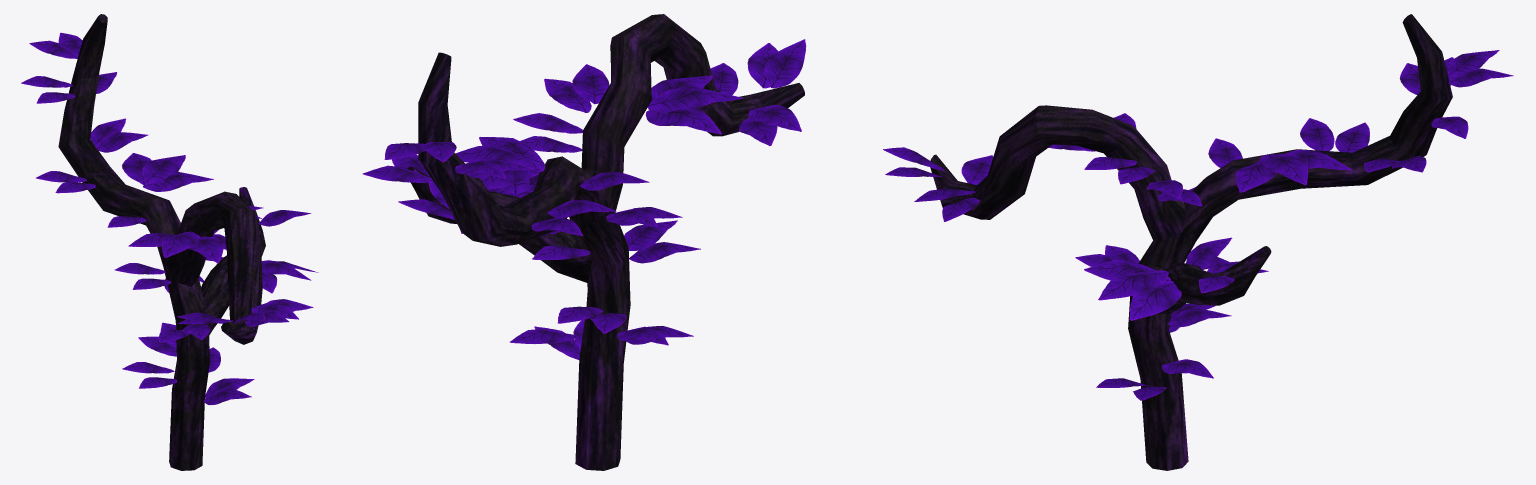
Rendered from bush.FBX.
3 renders of one model, left to right at view 1: azimuth 30°, elevation 25°; view 2: azimuth 150°, elevation 25°; view 3: azimuth 270°, elevation 25°, orthographic. The views are drawn at different scales.
Visible parts, largest first — view 1: Cylinder001, Plane004, Plane026, Plane029, Plane014, Plane013, Plane017, Plane042, Plane023, Plane008, Plane024, Plane020 (+11 smaller); view 2: Cylinder001, Plane026, Plane004, Plane010, Plane032, Plane033, Plane007, Plane037, Plane030, Plane036, Plane011, Plane043 (+15 smaller); view 3: Cylinder001, Plane029, Plane004, Plane028, Plane040, Plane017, Plane027, Plane043.
Part boxes in pixels (bbox=[...]): Cylinder001: bbox=[58, 14, 265, 470]; Plane004: bbox=[122, 153, 213, 191]; Plane026: bbox=[128, 231, 223, 263]; Plane029: bbox=[261, 260, 318, 293]; Plane014: bbox=[97, 132, 148, 152]; Plane013: bbox=[90, 118, 125, 147]; Plane017: bbox=[29, 40, 78, 58]; Plane042: bbox=[258, 210, 311, 226]; Plane023: bbox=[203, 388, 251, 405]; Plane008: bbox=[251, 302, 298, 319]; Plane024: bbox=[205, 378, 254, 398]; Plane020: bbox=[138, 336, 176, 356]; Cylinder001: bbox=[407, 14, 804, 470]; Plane026: bbox=[645, 75, 743, 134]; Plane004: bbox=[455, 137, 545, 189]; Plane010: bbox=[764, 39, 806, 88]; Plane032: bbox=[572, 64, 609, 104]; Plane033: bbox=[544, 78, 591, 112]; Plane007: bbox=[748, 105, 801, 131]; Plane037: bbox=[624, 220, 677, 250]; Plane030: bbox=[513, 113, 582, 133]; Plane036: bbox=[629, 242, 700, 263]; Plane011: bbox=[362, 165, 433, 182]; Plane043: bbox=[580, 172, 649, 190]; Cylinder001: bbox=[930, 14, 1452, 470]; Plane029: bbox=[1084, 260, 1181, 320]; Plane004: bbox=[1236, 149, 1351, 192]; Plane028: bbox=[1300, 118, 1334, 151]; Plane040: bbox=[1186, 237, 1232, 269]; Plane017: bbox=[1447, 50, 1499, 76]; Plane027: bbox=[1335, 122, 1369, 152]; Plane043: bbox=[1208, 138, 1242, 167].
Bounding box in the file's own units: 18.58 × 28.14 × 36.51.
Materials: 2 (2 with a texture image).
